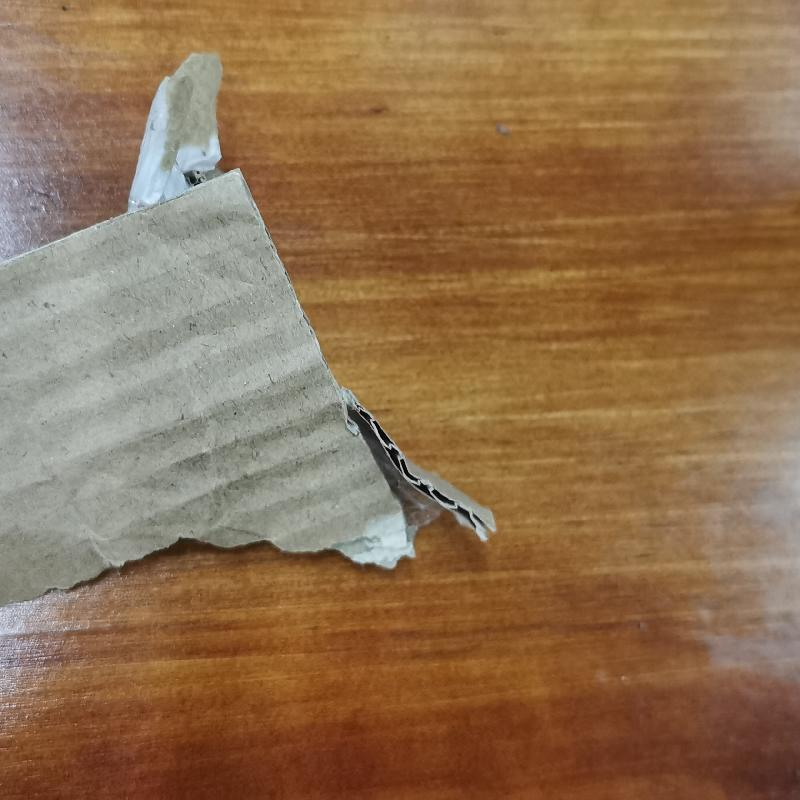boxes: (3, 51, 495, 603)
